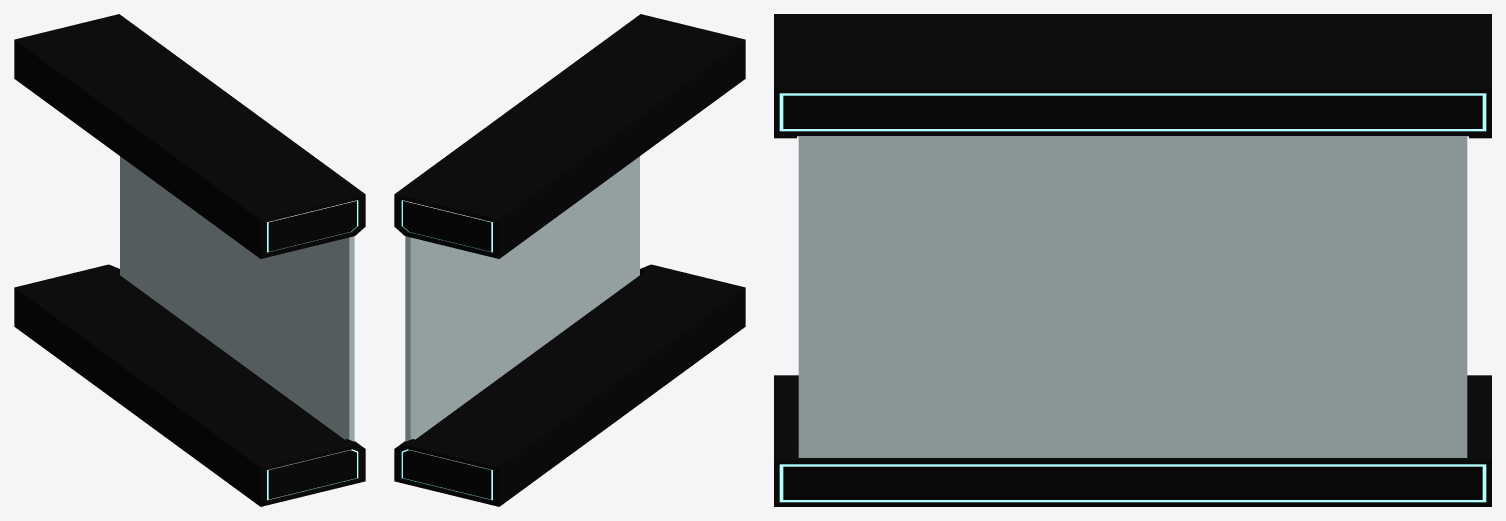
The model's file is pantalla_flotante.glb.
The picture shows the model from 3 angles, left to right: view 1: azimuth 30°, elevation 25°; view 2: azimuth 150°, elevation 25°; view 3: azimuth 270°, elevation 25°; orthographic projection. The views are drawn at different scales.
Visible parts, largest first — view 1: Cube.001_1, Cube.003_2, Cube.002_0; view 2: Cube.001_1, Cube.003_2, Cube.002_0; view 3: Cube.002_0, Cube.001_1, Cube.003_2.
Boxes of the visible parts, bbox=[...] form: Cube.001_1: bbox=[14, 14, 365, 258]; Cube.003_2: bbox=[14, 264, 365, 506]; Cube.002_0: bbox=[120, 156, 354, 441]; Cube.001_1: bbox=[394, 14, 745, 258]; Cube.003_2: bbox=[394, 264, 745, 506]; Cube.002_0: bbox=[405, 156, 639, 441]; Cube.002_0: bbox=[798, 136, 1467, 457]; Cube.001_1: bbox=[774, 14, 1491, 138]; Cube.003_2: bbox=[774, 375, 1491, 506].
Bounding box in the file's own units: 2 × 5.23 × 8.13.
